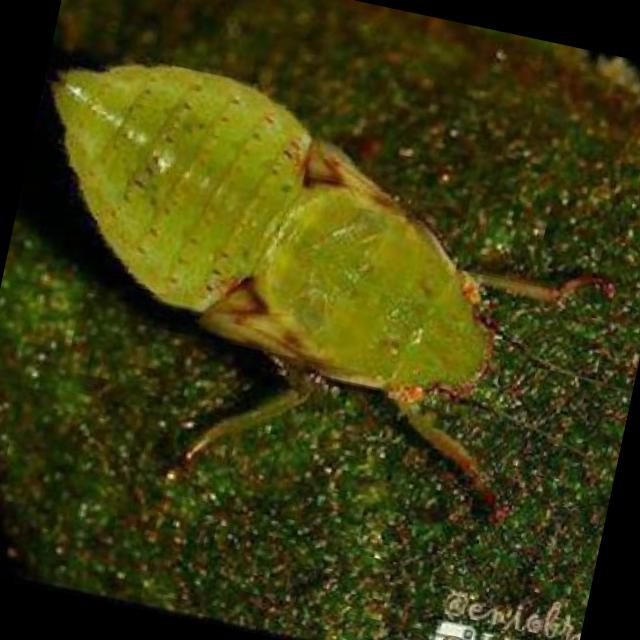green-leafhopper: (55, 60, 622, 530)
